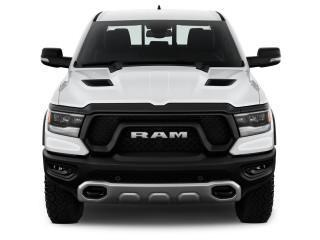ram: (127, 125, 195, 144)
